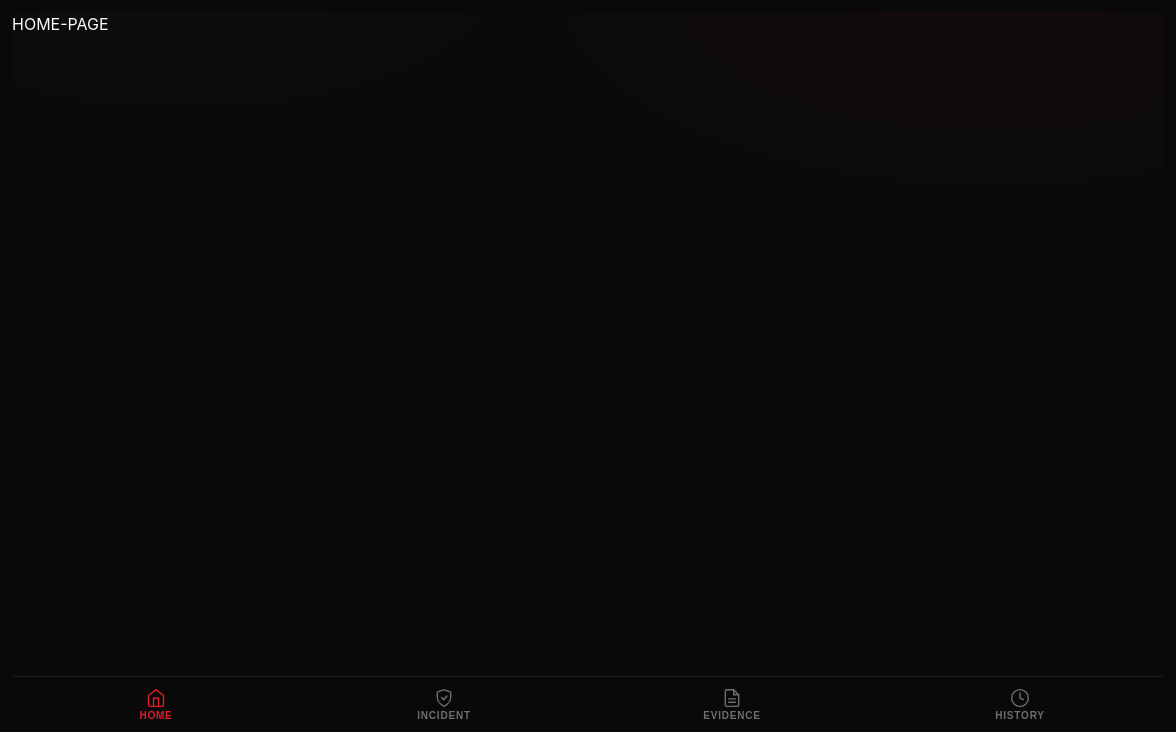
it: BottomNav - Reachable destinations › navigates to Incident from the primary nav
The image size is (1176, 732).
Click the button "Incident".
click(444, 704)  # box [300,677,588,731]
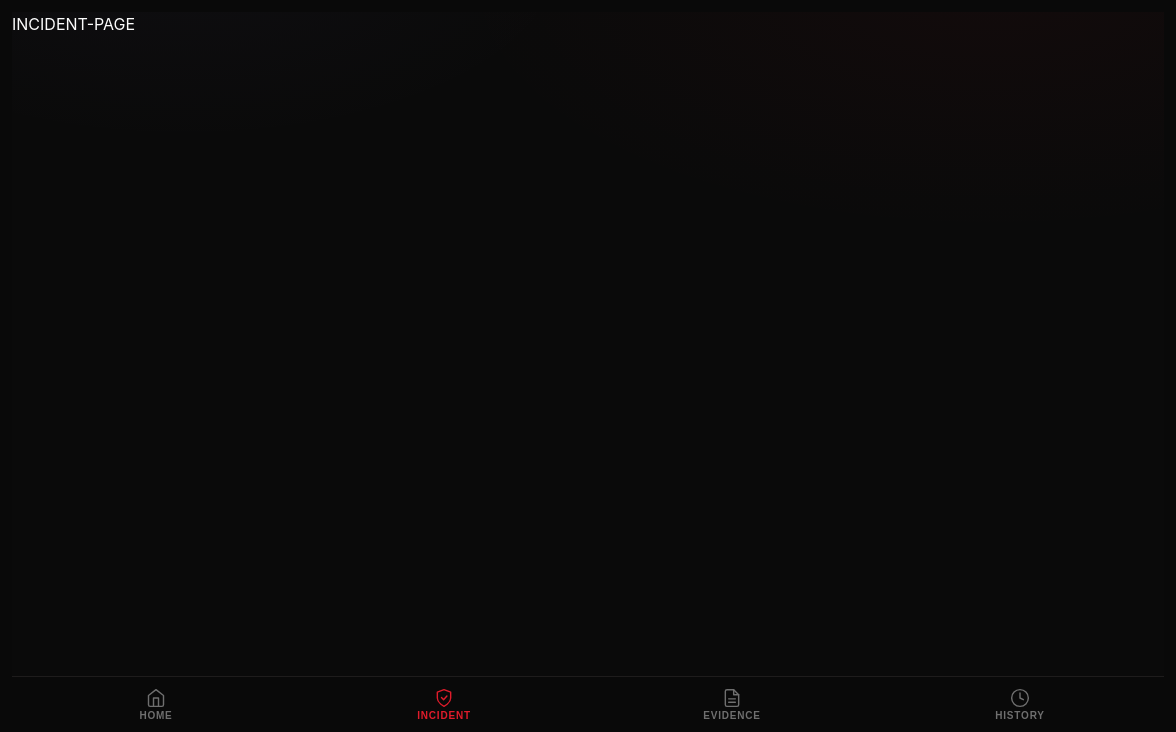
Expected: the text "INCIDENT-PAGE" is shown, [12,14,135,34]
